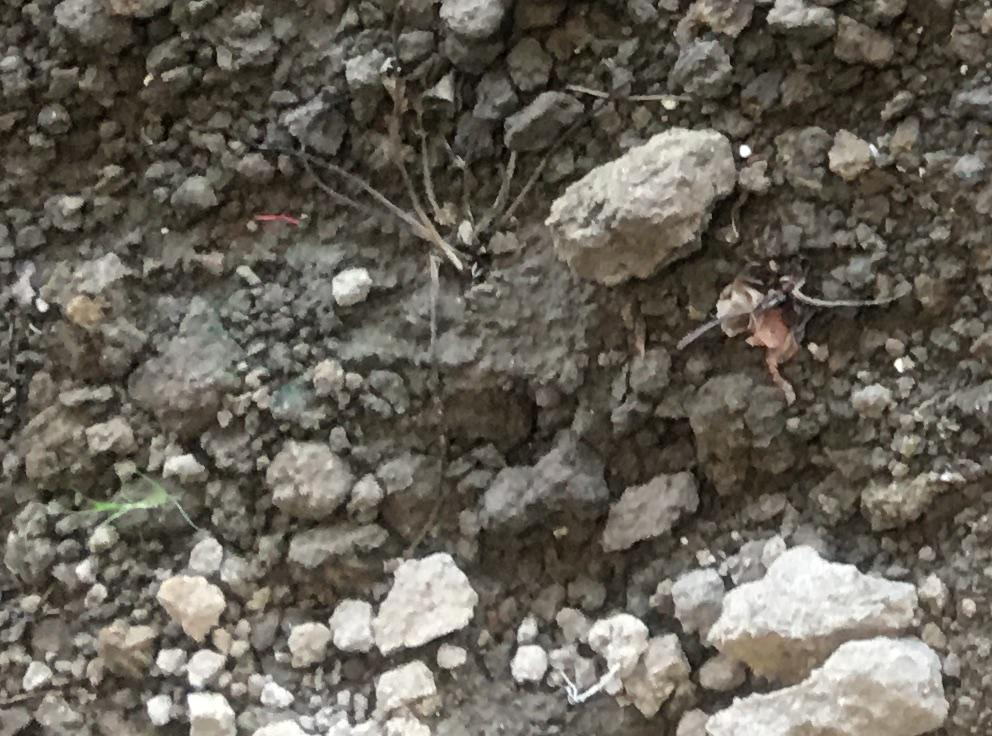block: (543, 124, 744, 284), (705, 542, 920, 672), (705, 639, 946, 736), (368, 555, 479, 654)
